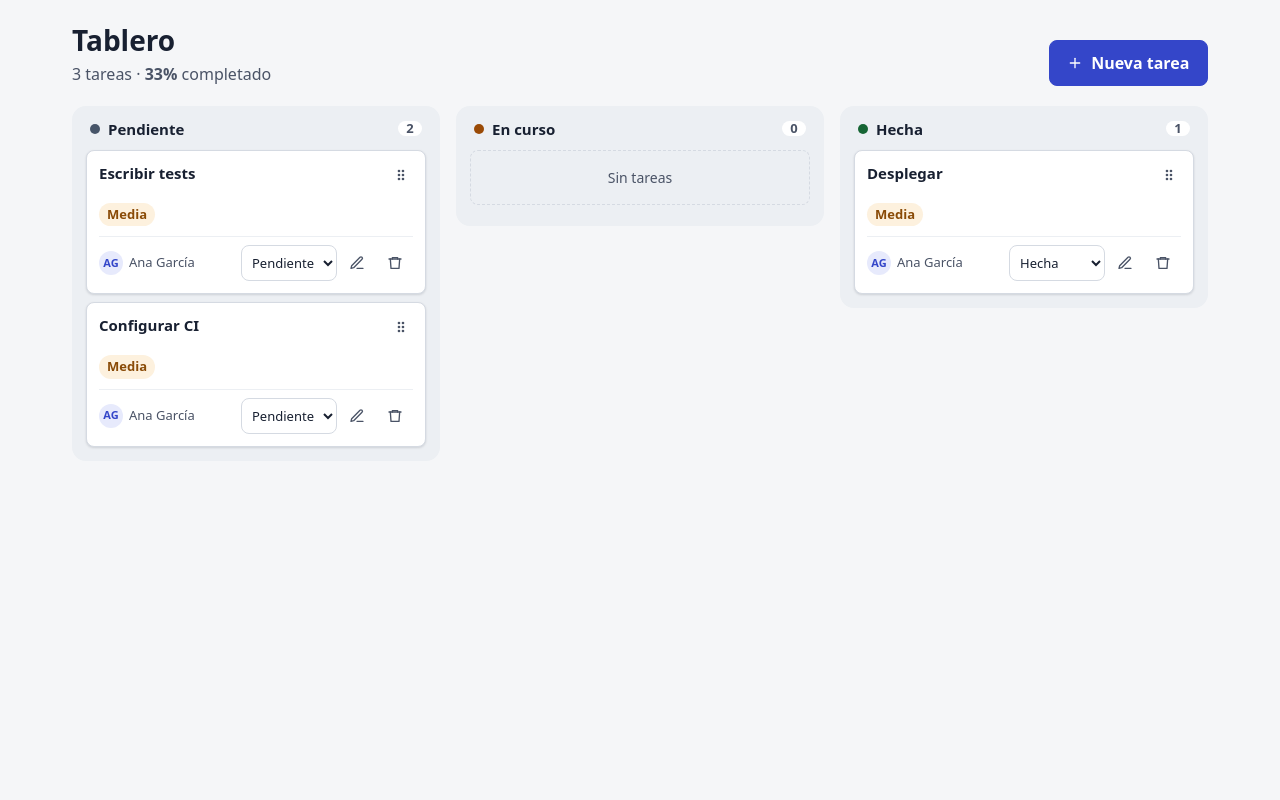
Tablero › si la API falla, la tarjeta vuelve a su columna y se avisa del error
This screenshot has width=1280, height=800.
Select "Hecha" in the dropdown named "Estado de «Escribir tests»" below "Escribir tests" at x=289, y=263, box x1=241 y1=245 x2=337 y2=281
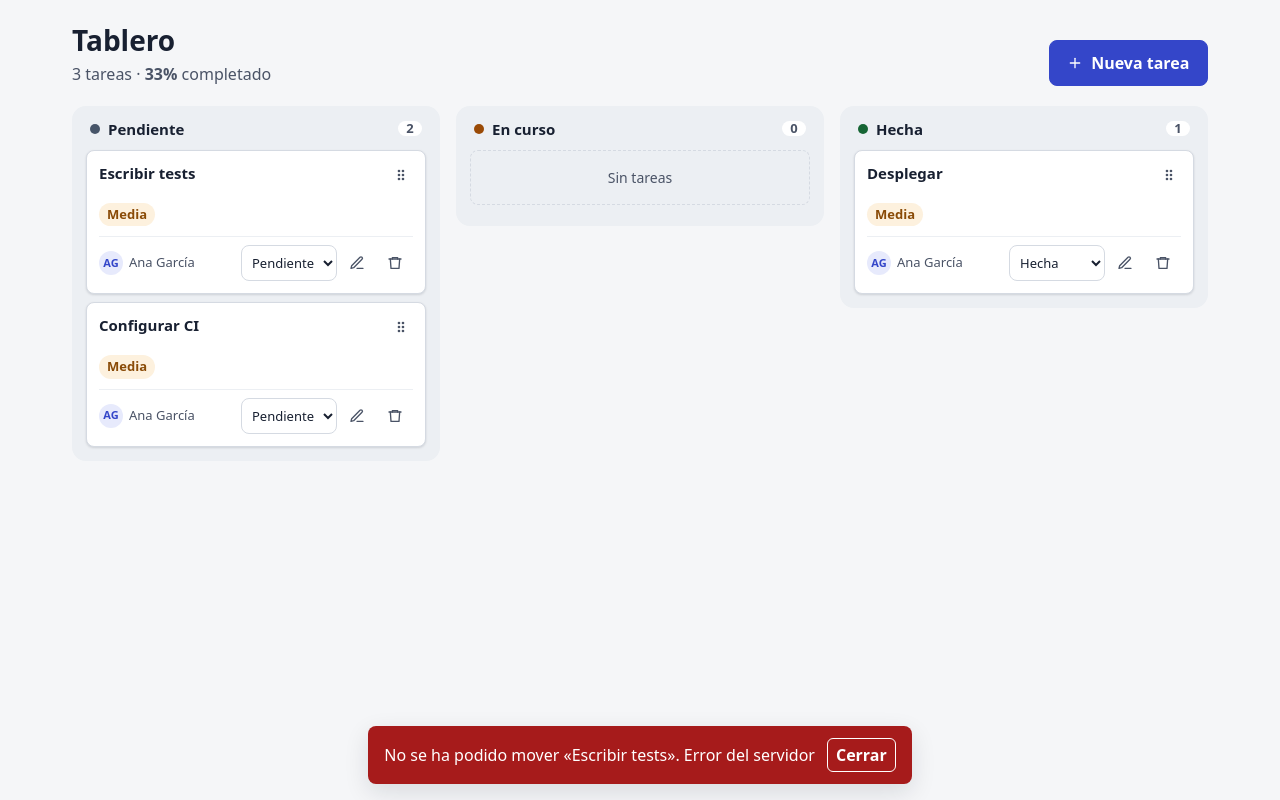
Check: the link "Escribir tests" is shown, box x1=99 y1=163 x2=196 y2=183
Check: the message shows "No se ha podido mover «Escribir tests». Error del servidor", box x1=384 y1=744 x2=815 y2=766
